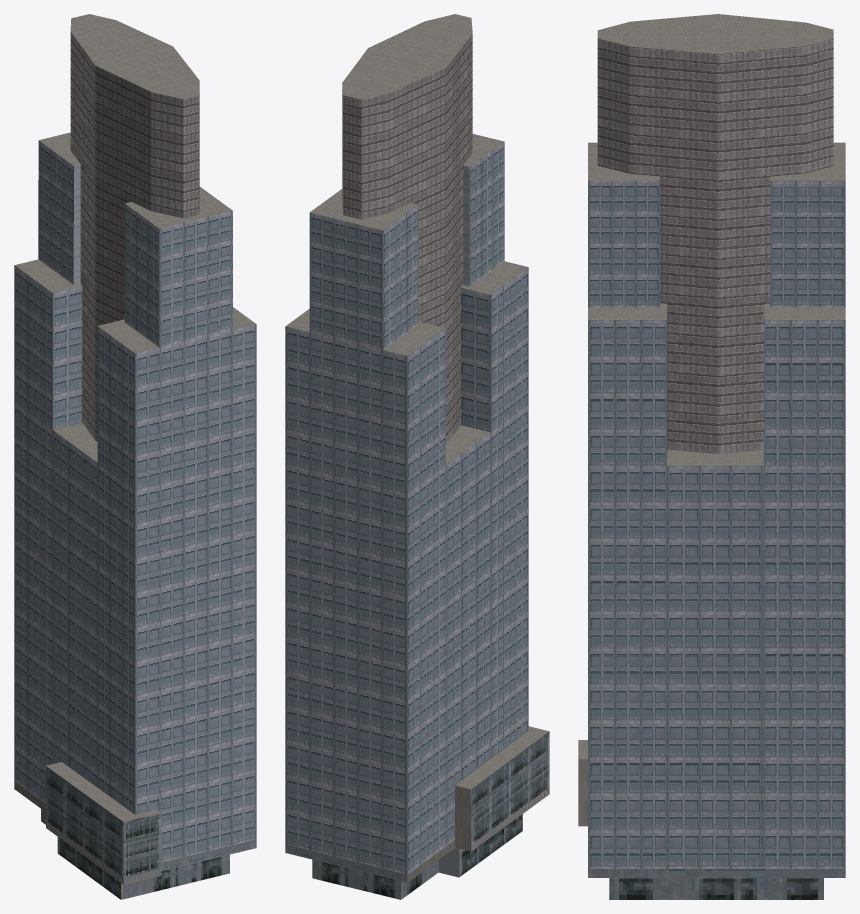
The model's file is lodkyscrap2_lan.obj.
3 renders of one model, left to right at view 1: azimuth 30°, elevation 25°; view 2: azimuth 150°, elevation 25°; view 3: azimuth 270°, elevation 25°, orthographic. The views are drawn at different scales.
Visible parts, largest first — view 1: LODkyscrap2_LAn; view 2: LODkyscrap2_LAn; view 3: LODkyscrap2_LAn.
Part boxes in pixels (<box>): LODkyscrap2_LAn: <box>14,14,256,899</box>; LODkyscrap2_LAn: <box>285,14,549,899</box>; LODkyscrap2_LAn: <box>578,14,845,899</box>.
Bounding box in the file's own units: 39.76 × 219 × 62.88.
4 materials, 4 textured.
